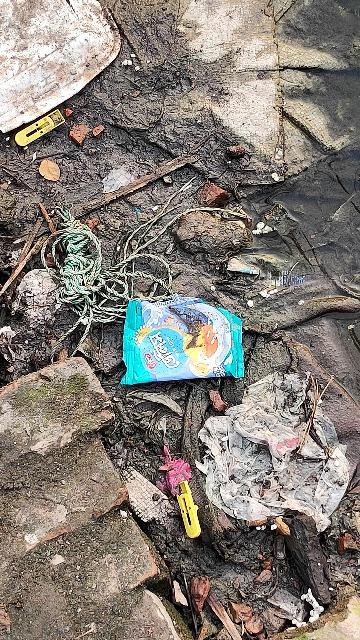packet: (126, 293, 245, 379)
